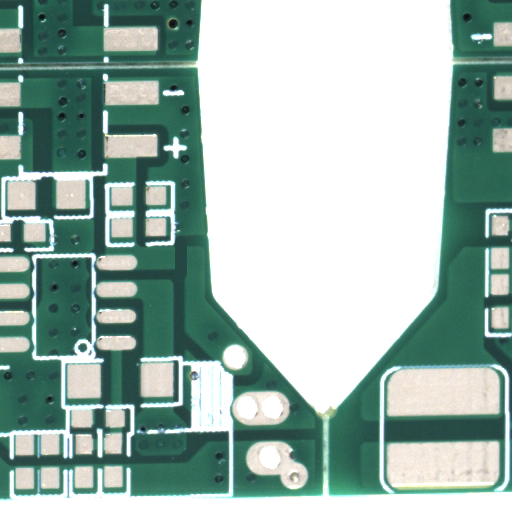Open_circuit: (181, 260, 194, 291)
